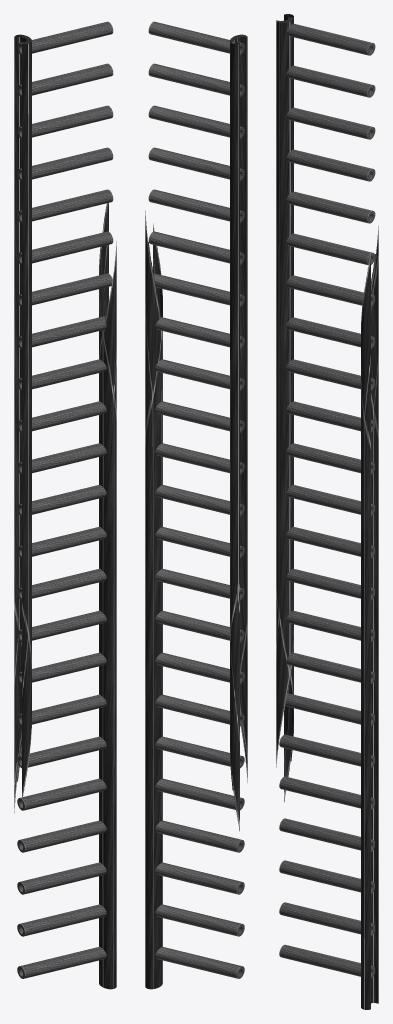
The model's file is Ladder.fbx.
3 views of the same model, side by side, from view 1: azimuth 30°, elevation 25°; view 2: azimuth 150°, elevation 25°; view 3: azimuth 330°, elevation 25° (orthographic).
Parts seen in each view (by area): view 1: pCylinder43, Leiter1:pCylinder43, pCylinder54, pCylinder60, pCylinder64, pCylinder55, pCylinder65, pCylinder44, Leiter:pCylinder43, pCylinder45, pCylinder46, pCylinder47 (+13 smaller); view 2: pCylinder43, Leiter1:pCylinder43, pCylinder54, pCylinder64, pCylinder55, pCylinder65, pCylinder44, Leiter:pCylinder43, pCylinder45, pCylinder46, pCylinder47, pCylinder48 (+13 smaller); view 3: Leiter1:pCylinder43, pCylinder43, pCylinder44, Leiter:pCylinder43, pCylinder45, pCylinder47, pCylinder46, pCylinder48, pCylinder54, pCylinder64, pCylinder60, pCylinder63 (+13 smaller).
Part boxes in pixels (<box>): pCylinder43: <box>14,34,31,813</box>; Leiter1:pCylinder43: <box>99,203,116,989</box>; pCylinder54: <box>17,862,106,894</box>; pCylinder60: <box>17,778,106,810</box>; pCylinder64: <box>17,904,106,936</box>; pCylinder55: <box>17,820,106,852</box>; pCylinder65: <box>17,946,106,978</box>; pCylinder44: <box>17,21,113,55</box>; Leiter:pCylinder43: <box>17,63,113,97</box>; pCylinder45: <box>17,105,113,139</box>; pCylinder46: <box>17,147,113,181</box>; pCylinder47: <box>17,189,113,223</box>; pCylinder43: <box>230,34,247,831</box>; Leiter1:pCylinder43: <box>145,210,162,989</box>; pCylinder54: <box>155,862,244,894</box>; pCylinder64: <box>155,904,244,936</box>; pCylinder55: <box>155,820,244,852</box>; pCylinder65: <box>155,946,244,978</box>; pCylinder44: <box>148,21,244,55</box>; Leiter:pCylinder43: <box>148,63,244,97</box>; pCylinder45: <box>148,105,244,139</box>; pCylinder46: <box>148,147,244,181</box>; pCylinder47: <box>148,189,244,223</box>; pCylinder48: <box>148,231,244,264</box>; Leiter1:pCylinder43: <box>361,226,378,1009</box>; pCylinder43: <box>276,14,293,802</box>; pCylinder44: <box>286,23,375,55</box>; Leiter:pCylinder43: <box>286,65,375,97</box>; pCylinder45: <box>286,107,375,139</box>; pCylinder47: <box>286,191,375,223</box>; pCylinder46: <box>286,149,375,181</box>; pCylinder48: <box>286,233,375,265</box>; pCylinder54: <box>279,860,374,893</box>; pCylinder64: <box>279,902,374,935</box>; pCylinder60: <box>279,776,374,809</box>; pCylinder63: <box>279,734,374,767</box>.
Size of the model in its own units: 35.5 by 345 by 7.62.
Materials: 4 (4 with a texture image).
